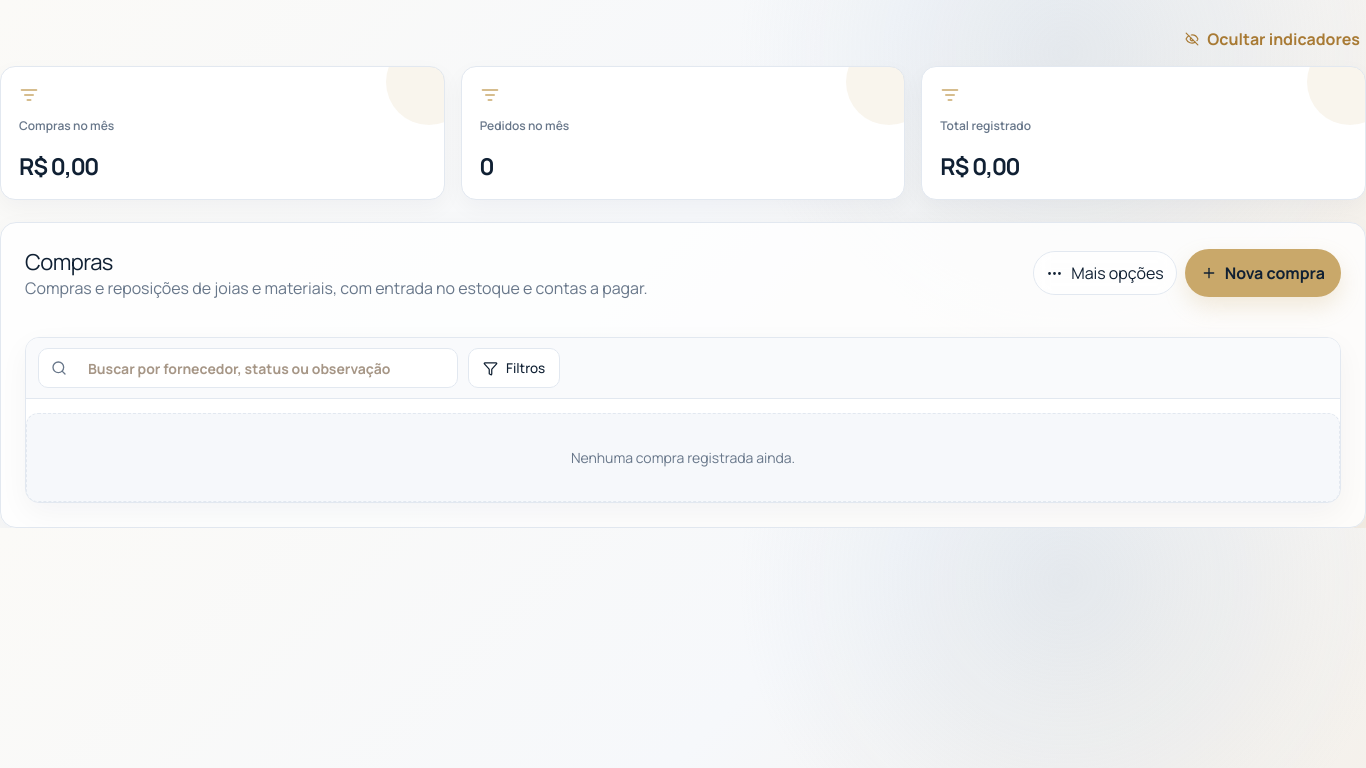
formulário extenso de compras › oferece restaurar e descartar um rascunho isolado
Click the button "Nova compra". click: (1263, 273)
box: top-left (1185, 249), bottom-right (1341, 297)
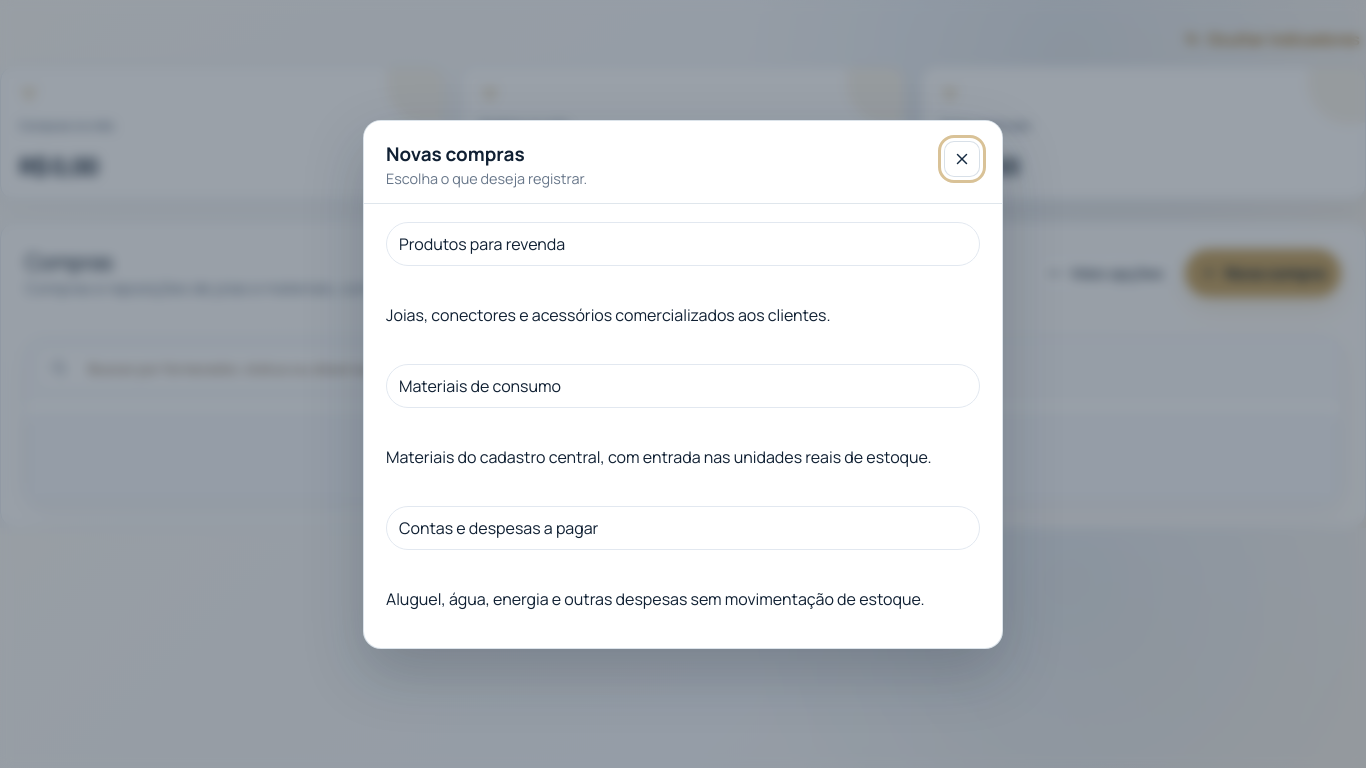
Click the button "Produtos para revenda". click: (482, 244)
box: top-left (386, 222), bottom-right (980, 266)
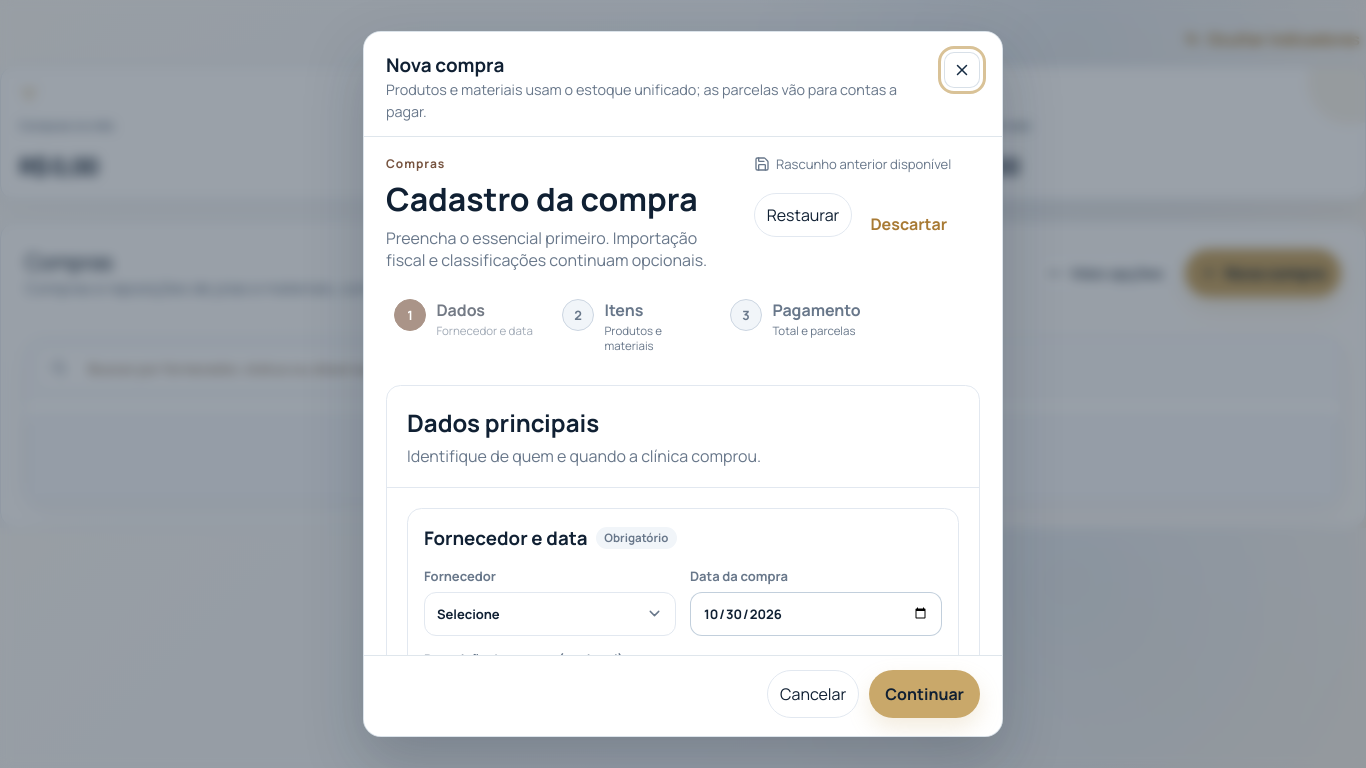
Result: the button "Restaurar" is shown
Click the button "Restaurar". click: (803, 215)
box: top-left (754, 193), bottom-right (852, 237)
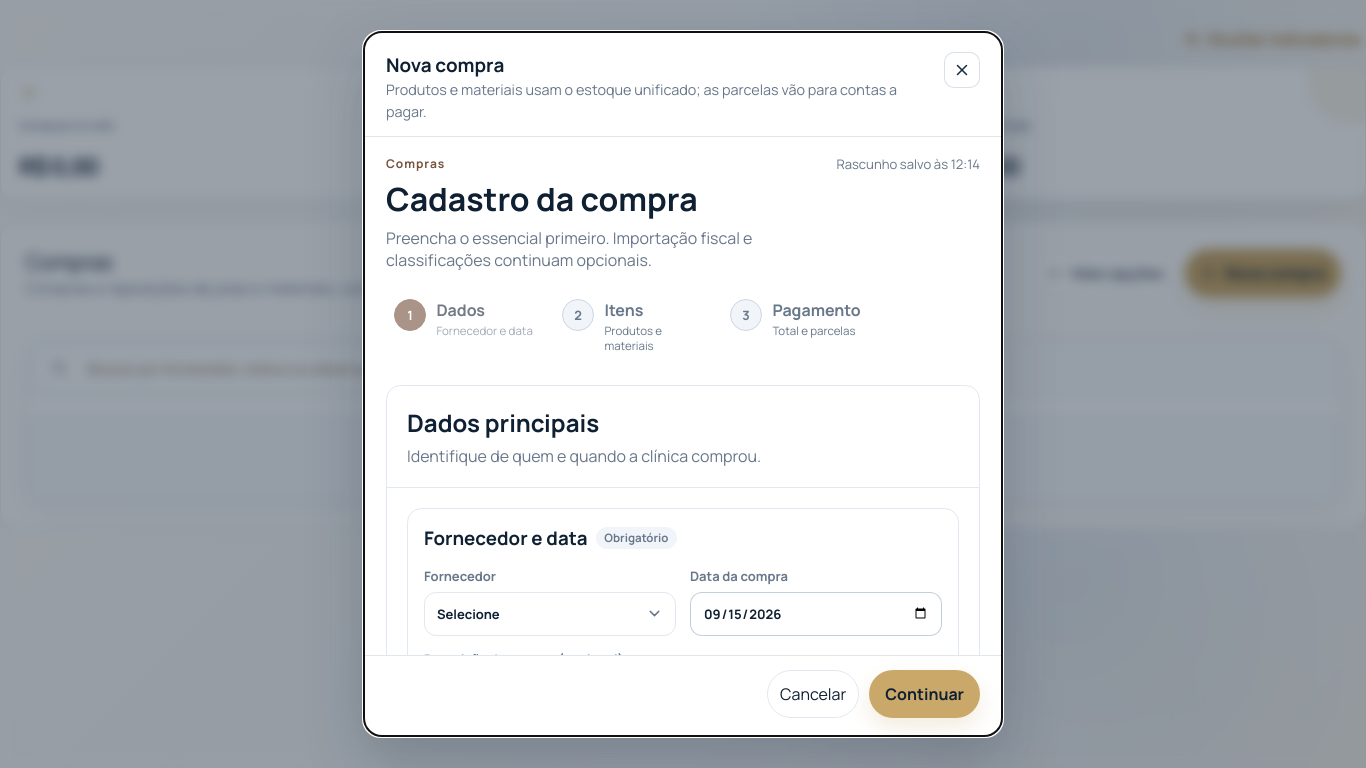
Result: the date field labelled "Data da compra" holds "2026-09-15" at top-left (690, 592), bottom-right (942, 636)
Result: the button "Restaurar" is gone
